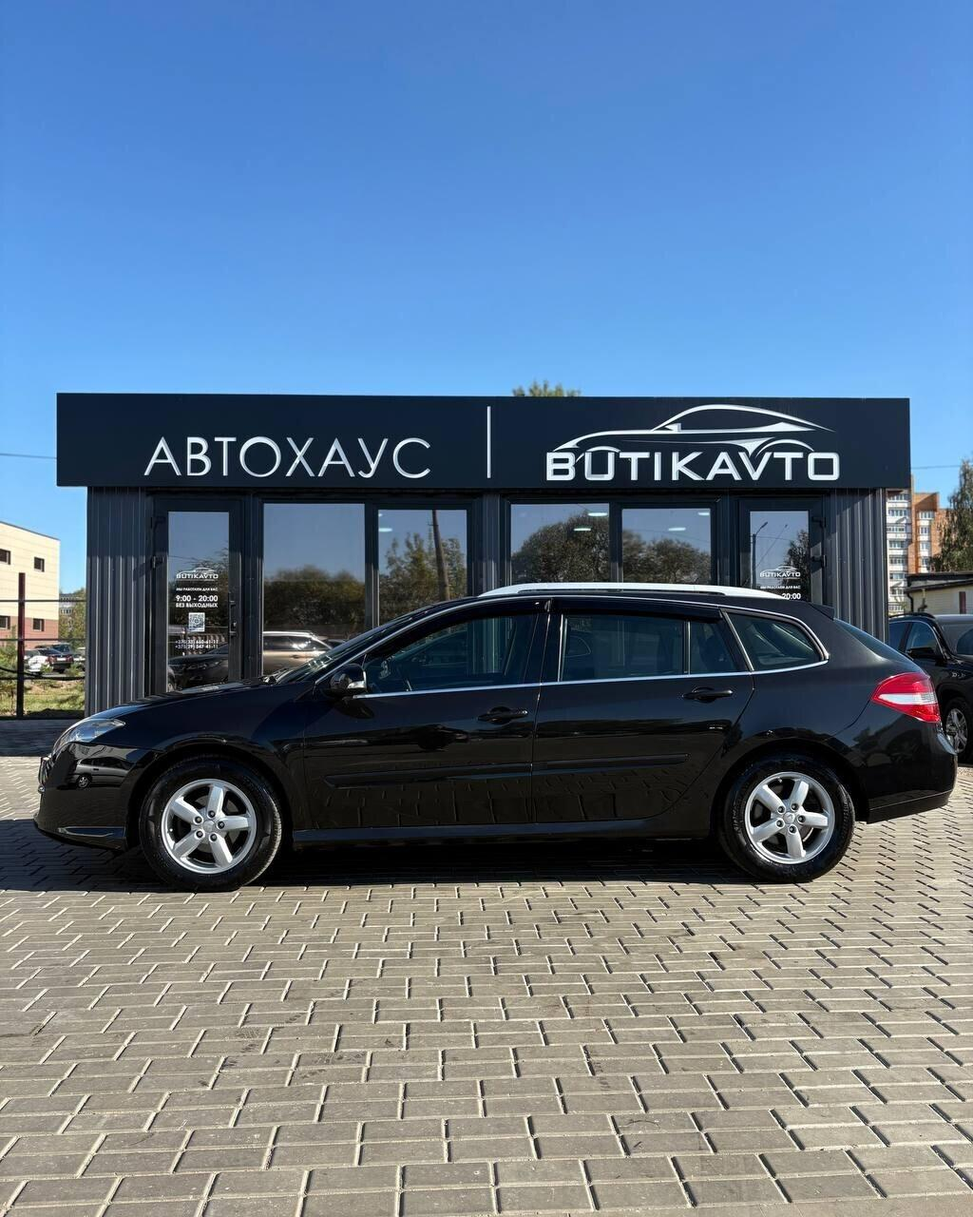Laguna_2007-2011: (36, 584, 954, 890)
